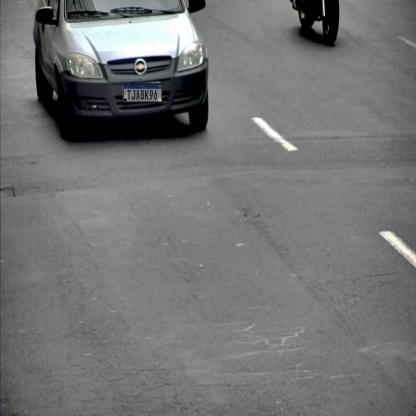PlacaM: (123, 83, 162, 103)
